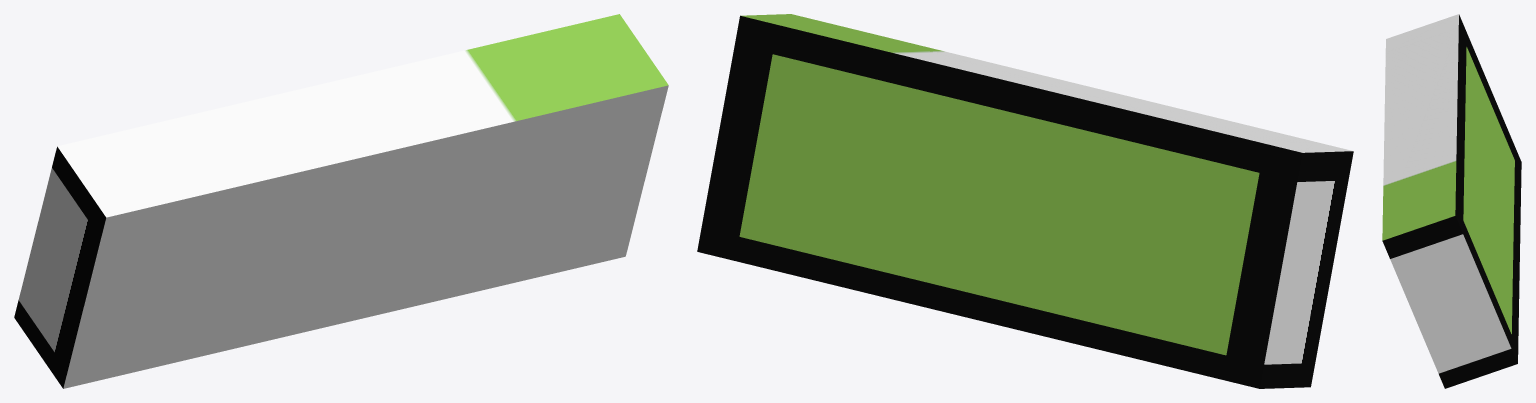
File: hokakuteki_right.fbx
3 renders of one model, left to right at view 1: azimuth 30°, elevation 25°; view 2: azimuth 150°, elevation 25°; view 3: azimuth 270°, elevation 25°, orthographic. The views are drawn at different scales.
Visible parts, largest first — view 1: 立方体.005; view 2: 立方体.005; view 3: 立方体.005.
Boxes of the visible parts, x1,y1,x2,y2 form: 立方体.005: (14,14,668,388); 立方体.005: (697,14,1353,388); 立方体.005: (1382,14,1521,388).
Bounding box in the file's own units: 58.86 × 200 × 81.8.
